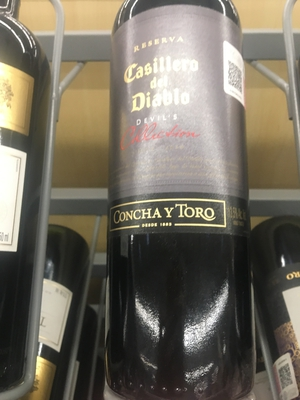casillero del diablo devils collection rojo: (103, 3, 252, 346)
